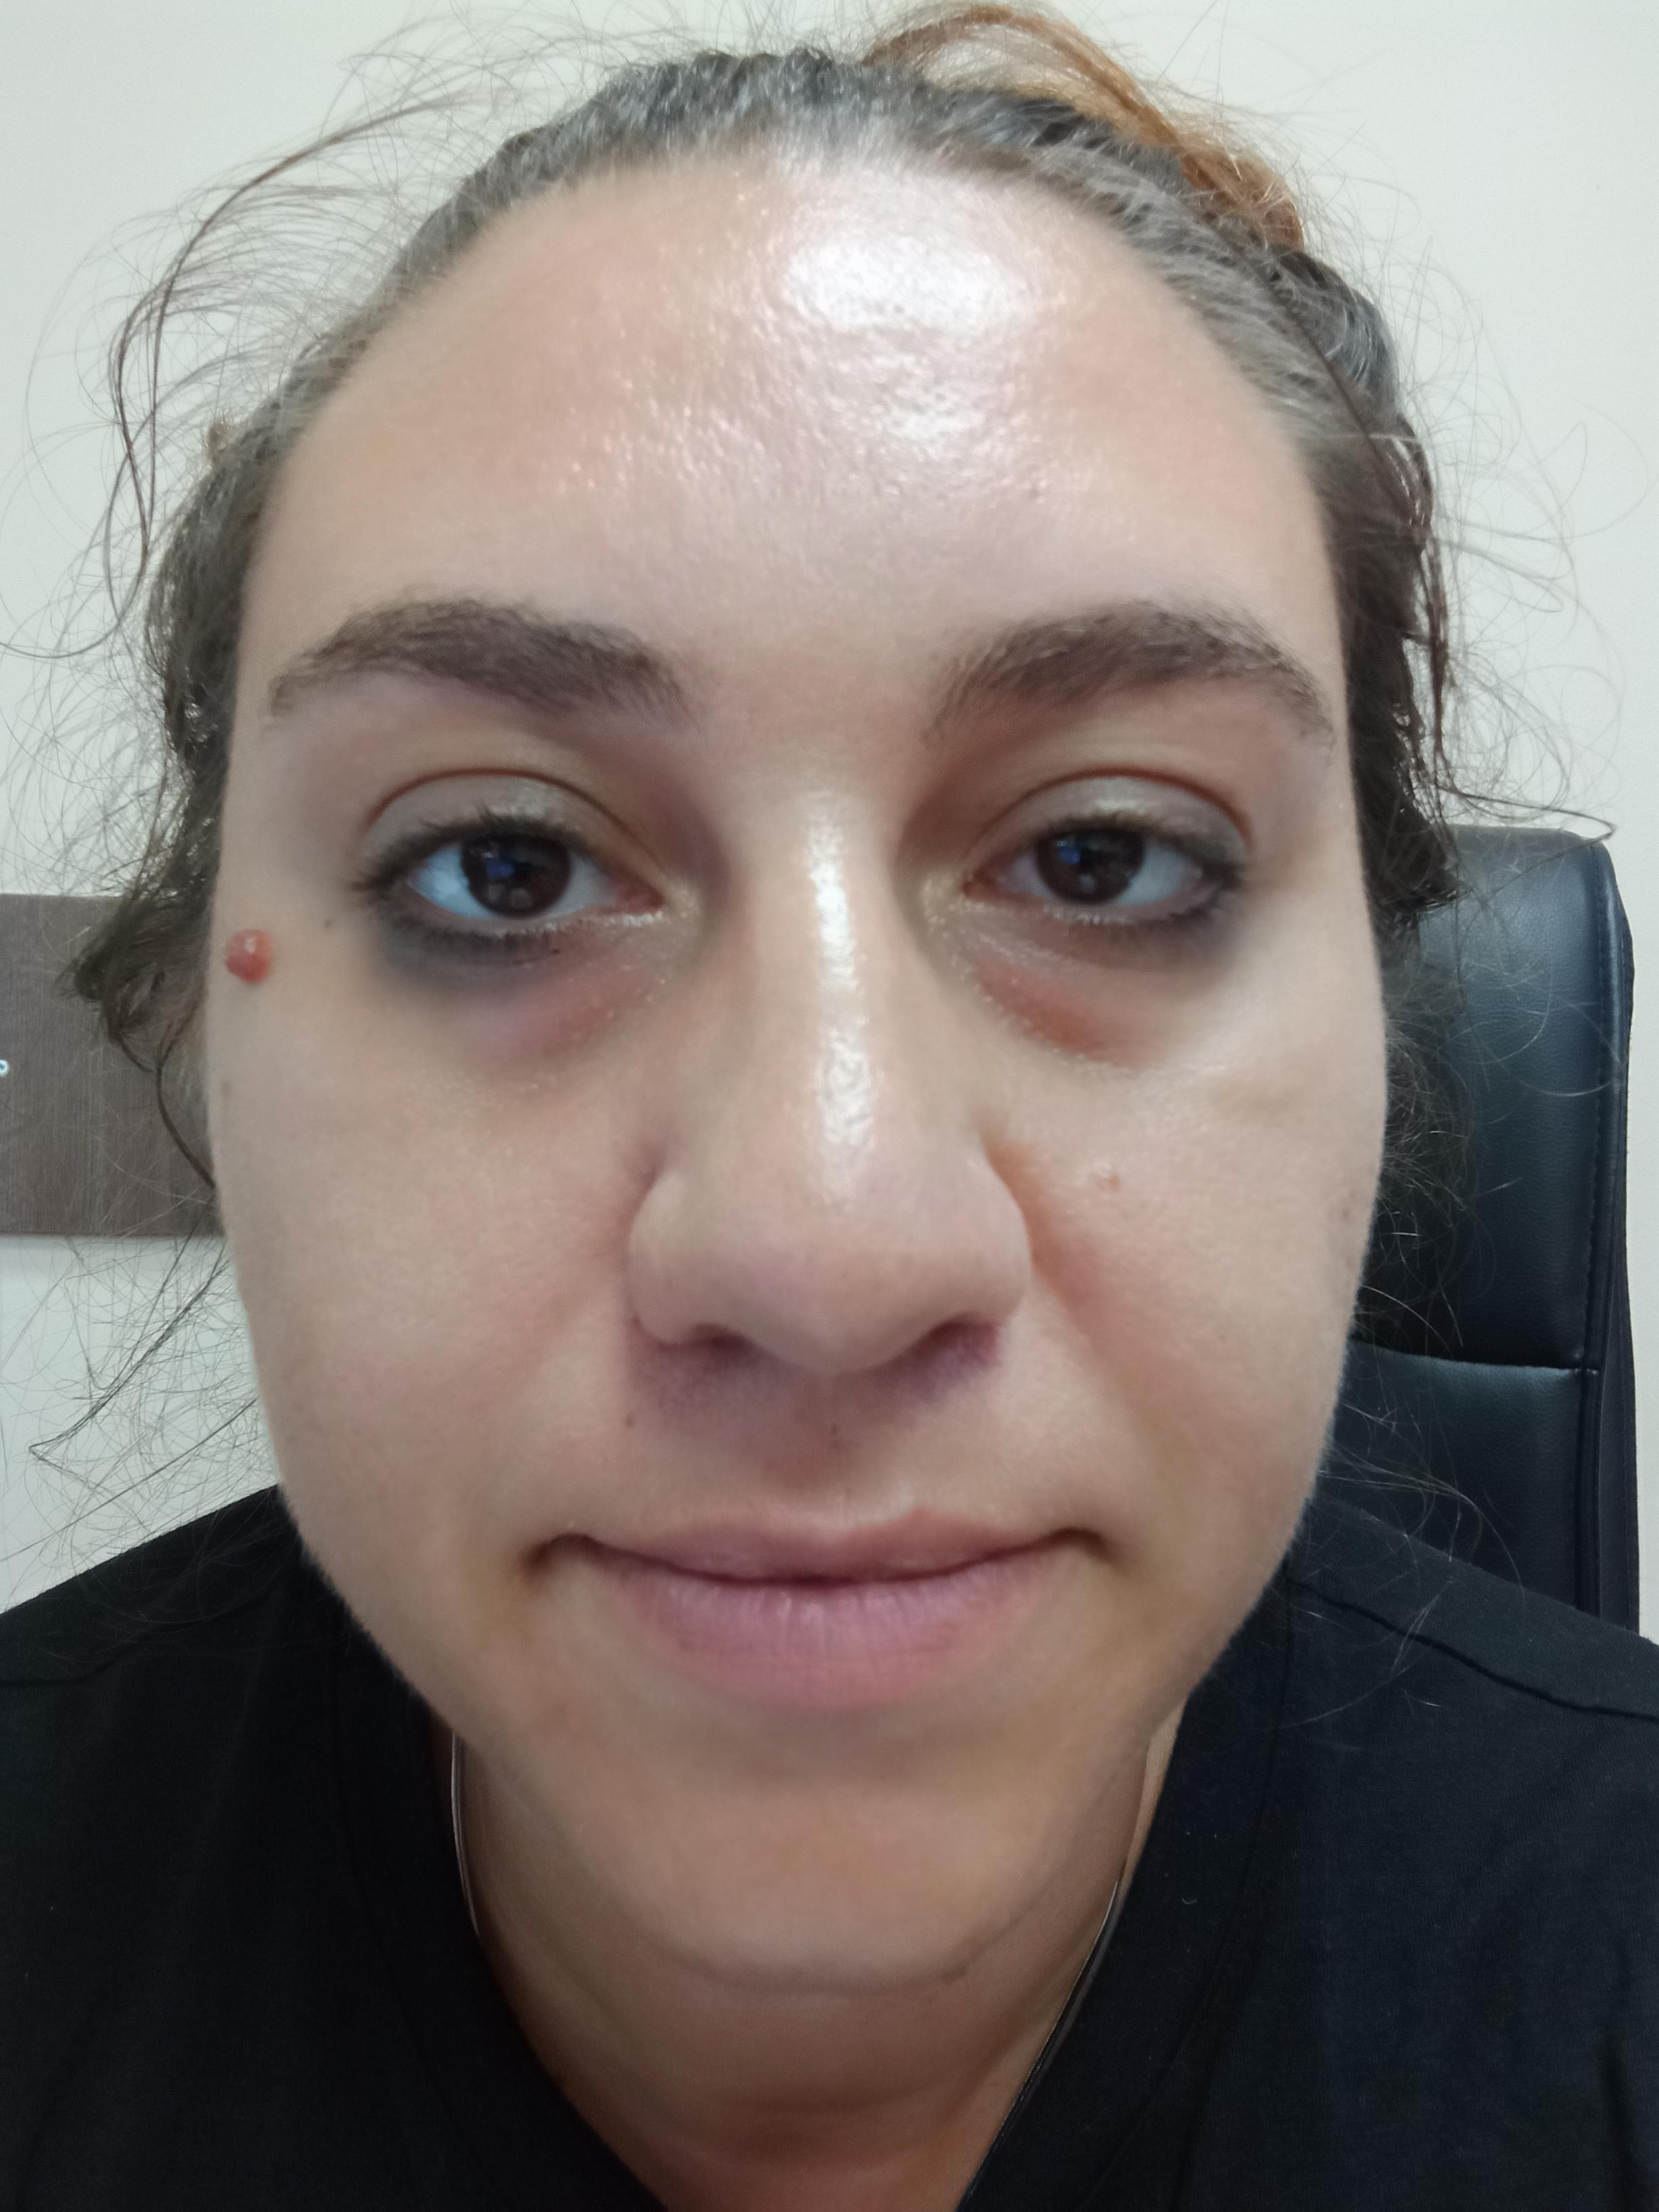Acne: (542, 1683, 598, 1740)
Englarged-Pores: (586, 347, 1028, 536), (355, 1163, 579, 1348)
Eyebags: (927, 913, 1295, 1054), (343, 949, 657, 1101)
